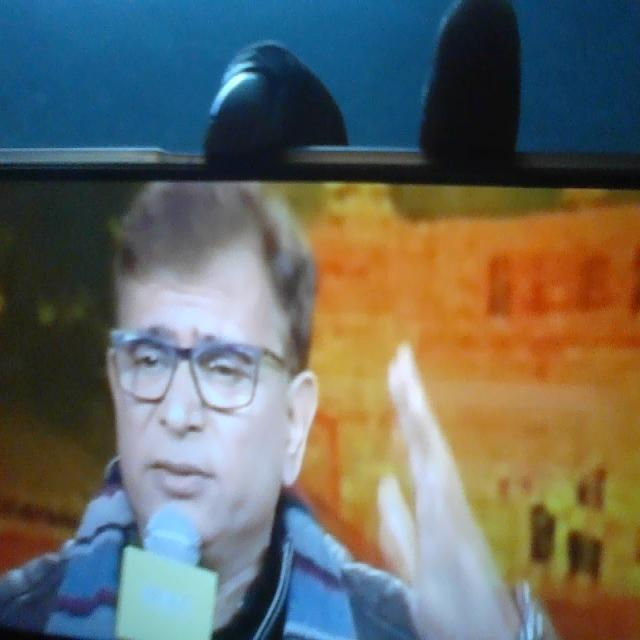fake: (91, 149, 313, 568)
